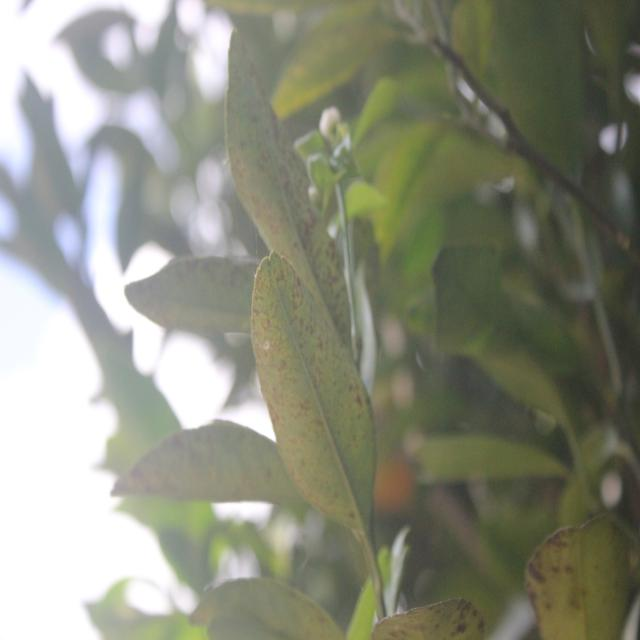melanose: (222, 26, 360, 353), (249, 246, 386, 538), (525, 491, 631, 640), (355, 585, 493, 640)
